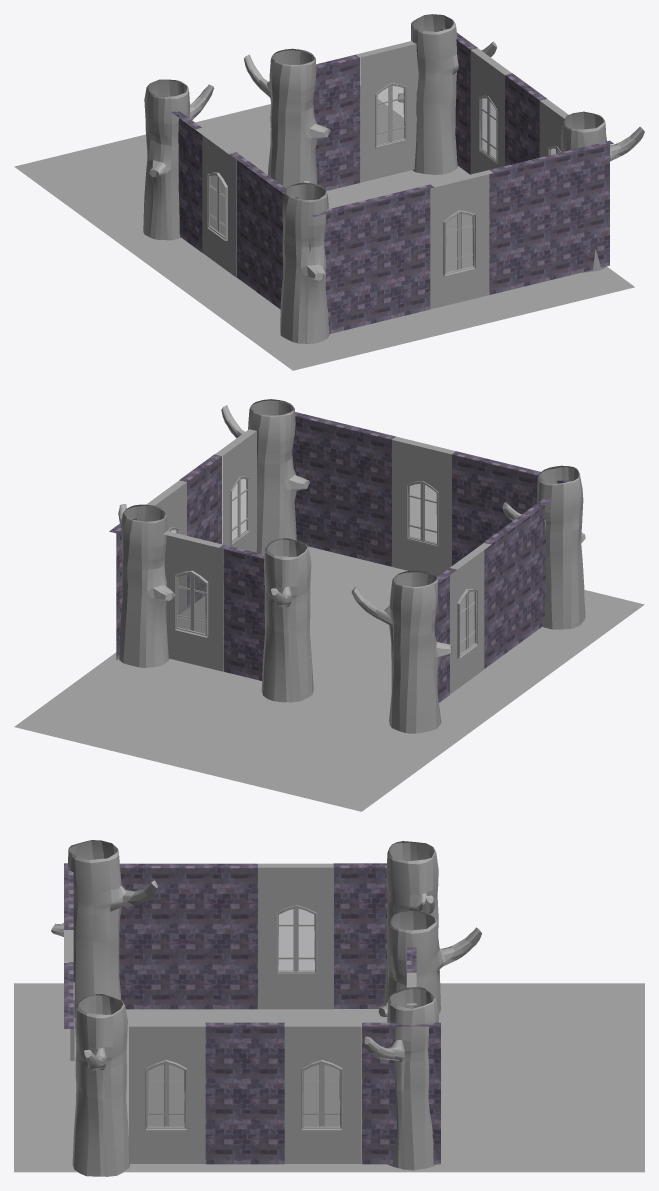
Rendered from SM_Walls_Floor_Tree.fbx.
3 views of the same model, one above another, from view 1: azimuth 30°, elevation 25°; view 2: azimuth 150°, elevation 25°; view 3: azimuth 270°, elevation 25° (orthographic). The views are drawn at different scales.
Parts seen in each view (by area): view 1: SM_Wall_20; view 2: SM_Wall_20; view 3: SM_Wall_20.
Boxes of the visible parts, x1,y1,x2,y2 form: SM_Wall_20: (14, 14, 644, 370); SM_Wall_20: (14, 399, 644, 811); SM_Wall_20: (14, 840, 644, 1176).
Bounding box in the file's own units: 1189 × 422 × 1496.
